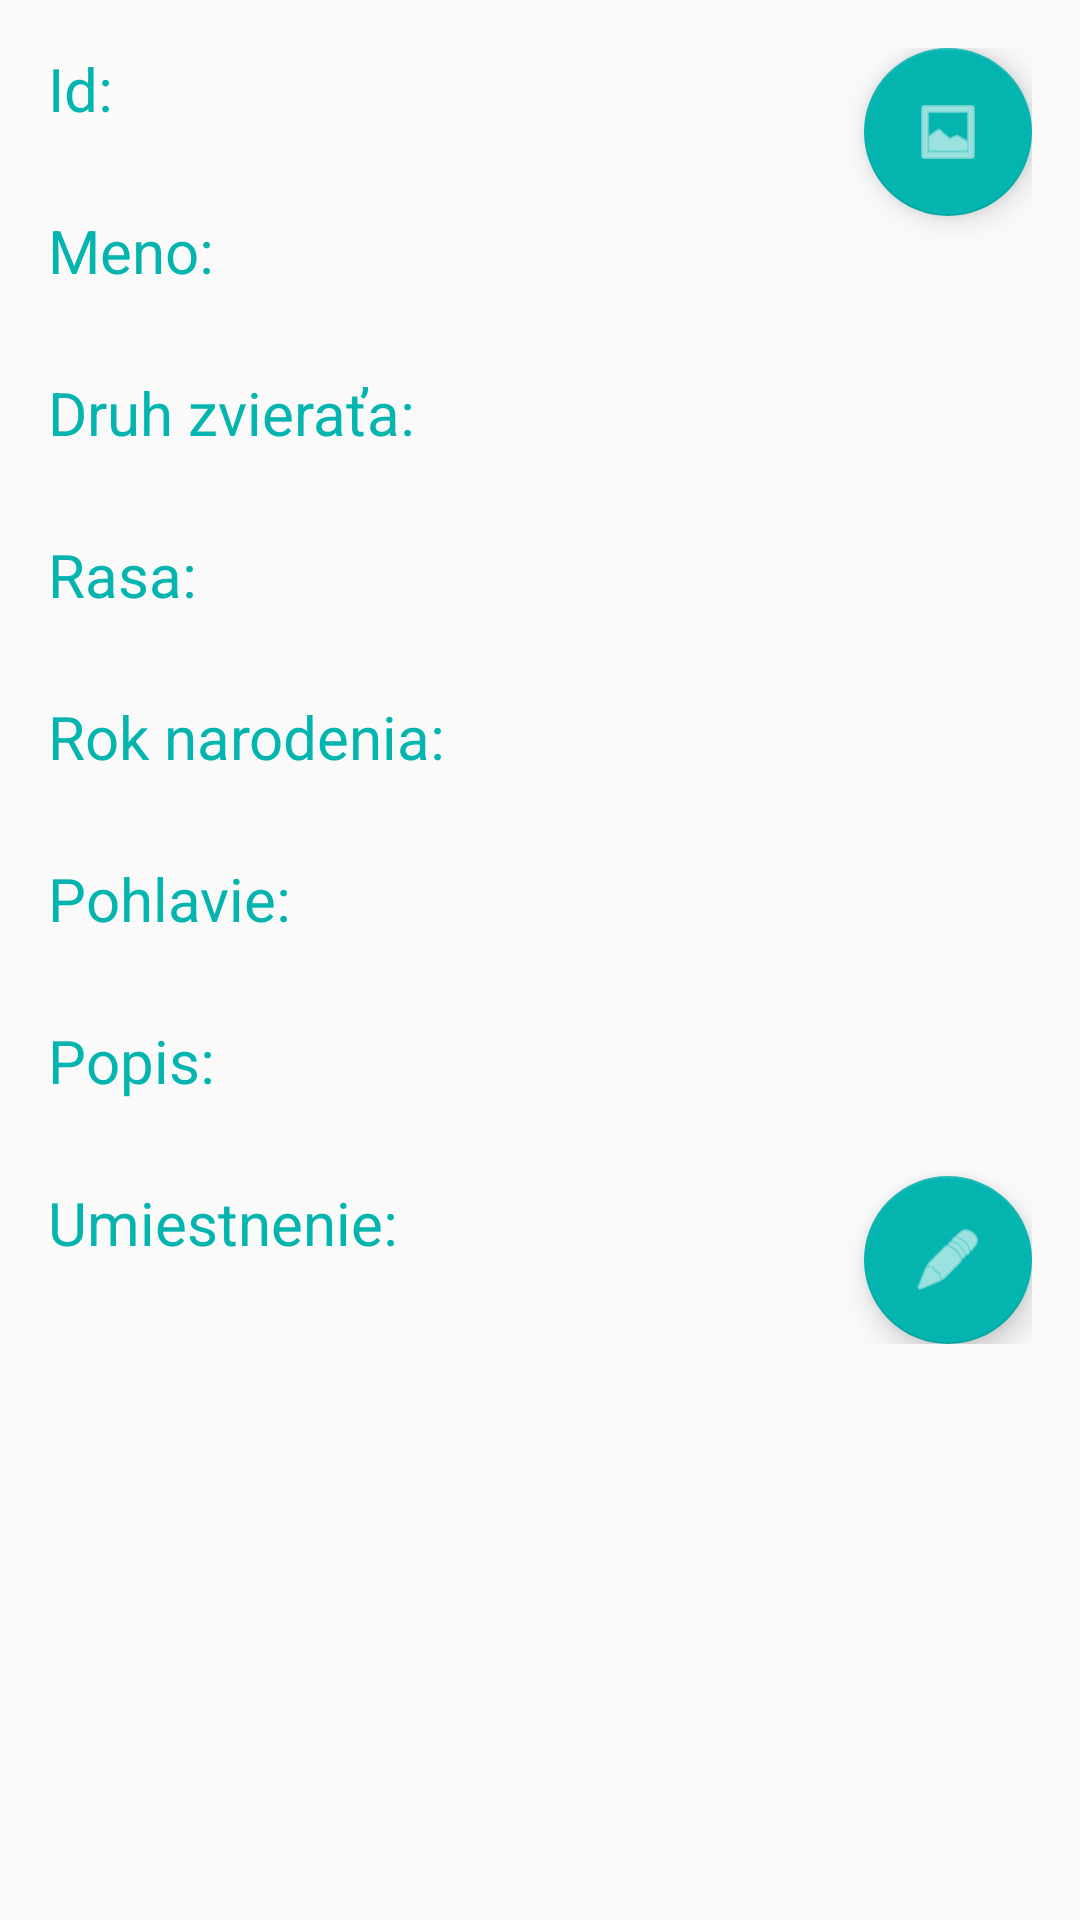

Icon click points for this 1080px x 1920px phone screenshot, format (x,y):
edit: (948,1260)
gallery: (948,132)
